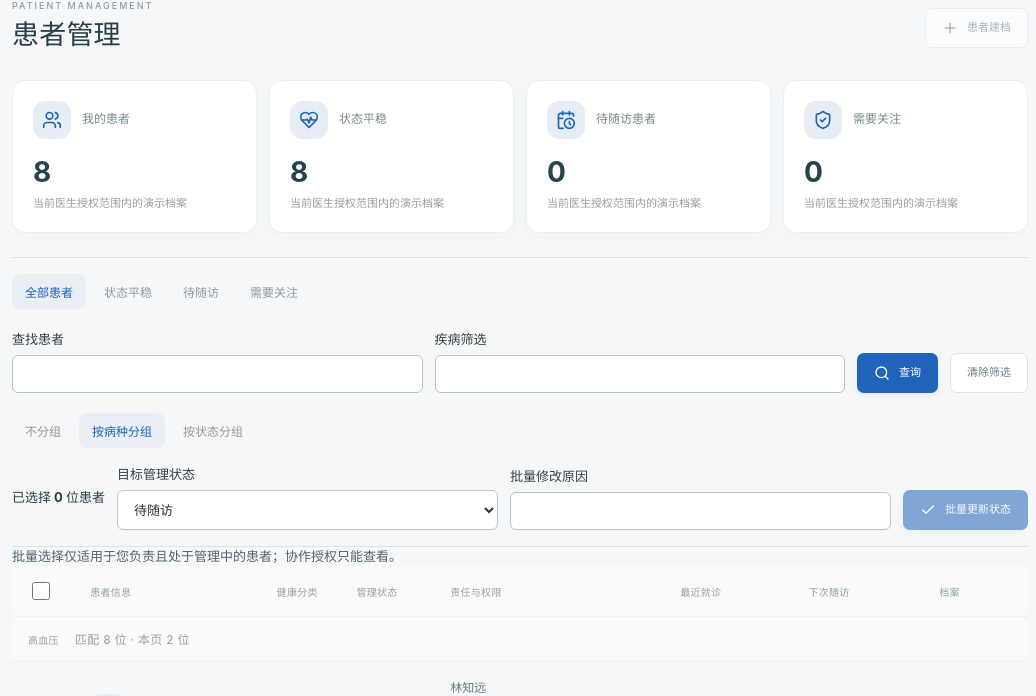
Test: Patients workflows › groups server results and submits only editable selected patients with their versions
expect the text "匹配 8 位 · 本页 2 位" is shown: met, box [75,632,190,647]
Click the checkbox named "全选当前页可编辑患者" at (41, 591), box [32,582,50,600]
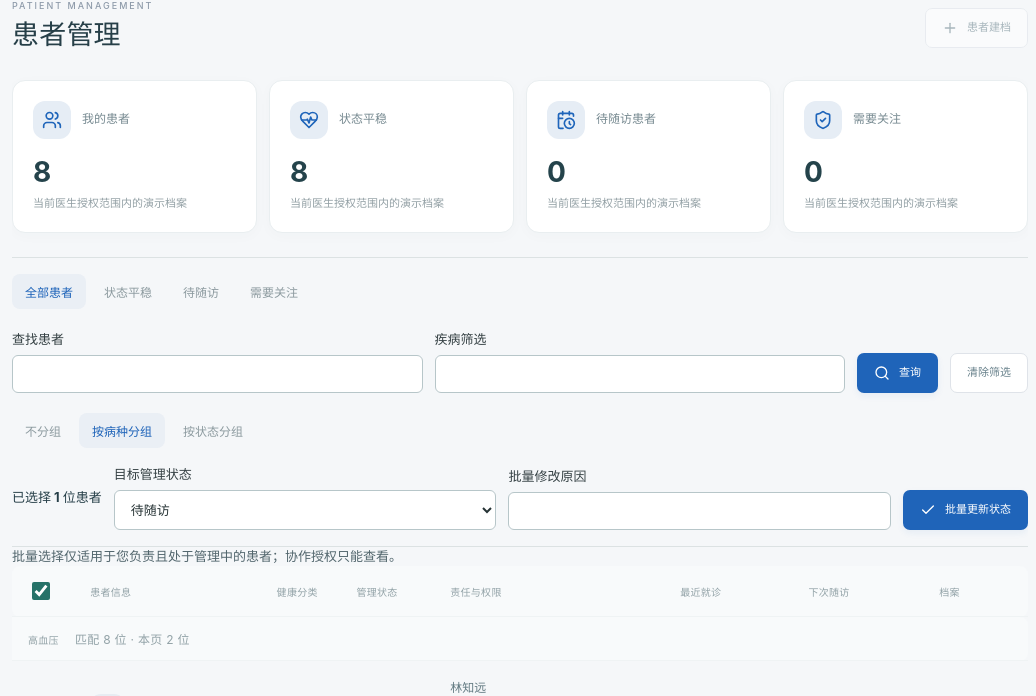
expect the text "已选择 1 位患者" is shown: met, box [12,487,102,506]
Click the button "批量更新状态" at (966, 510), box [903,490,1028,530]
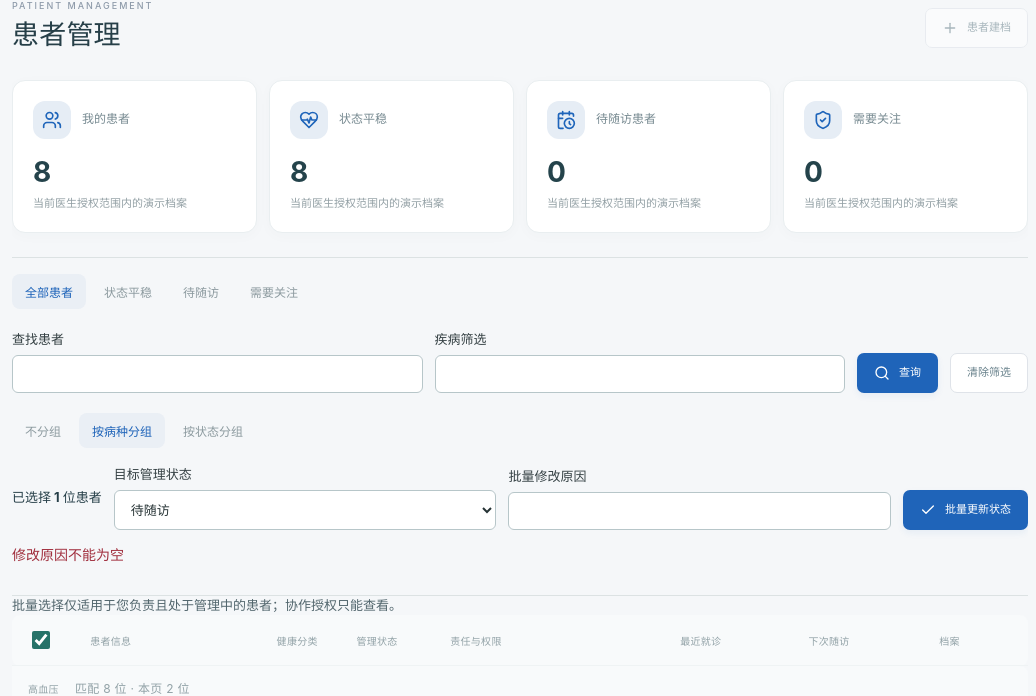
expect the message reads "修改原因不能为空": met, box [12,546,124,562]
Type "Review" into the field labelled "批量修改原因" at (700, 510), box [508,492,891,530]
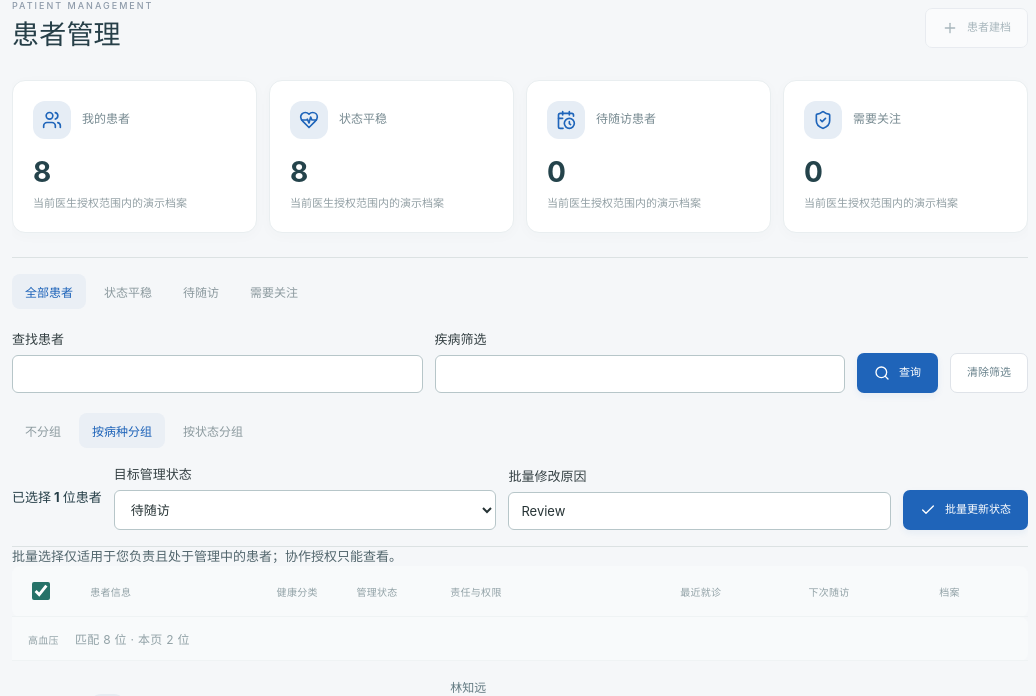
Select "需要关注" in the dropdown labelled "目标管理状态" at (305, 510), box [114,490,496,530]
Click the button "批量更新状态" at (966, 510), box [903,490,1028,530]
(page scrolled)
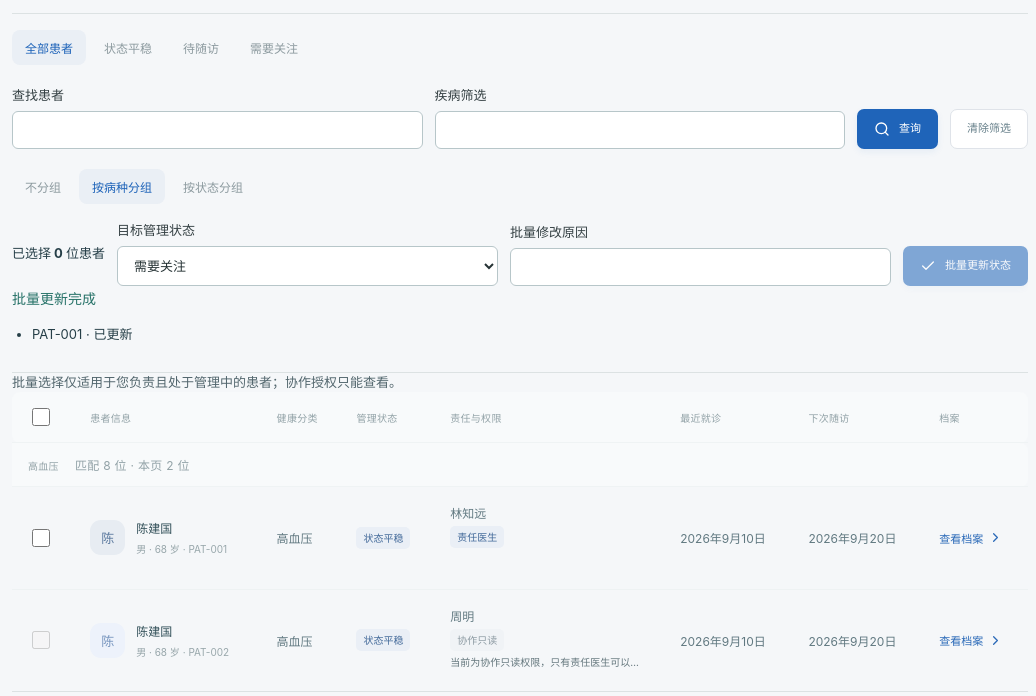
expect the text "批量更新完成" is shown: met, box [12,290,96,306]
expect the text "已选择 0 位患者" is shown: met, box [12,243,105,262]
Click the checkbox named "选择患者 PAT-001" at (41, 538), box [32,529,50,547]
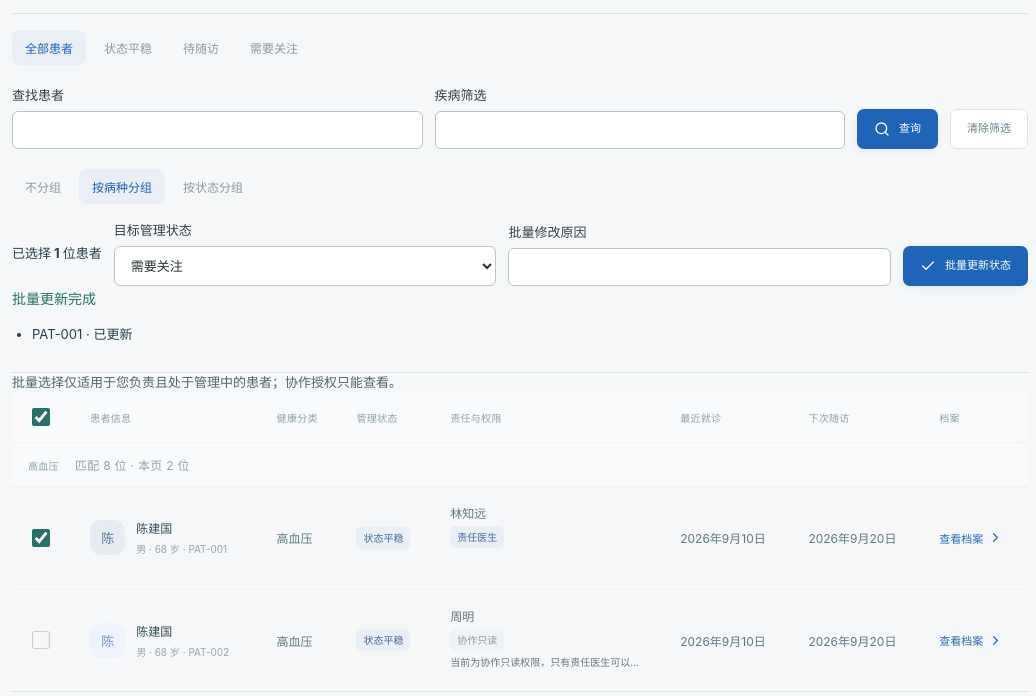
Click the button "按状态分组" at (213, 186), box [170,168,256,204]
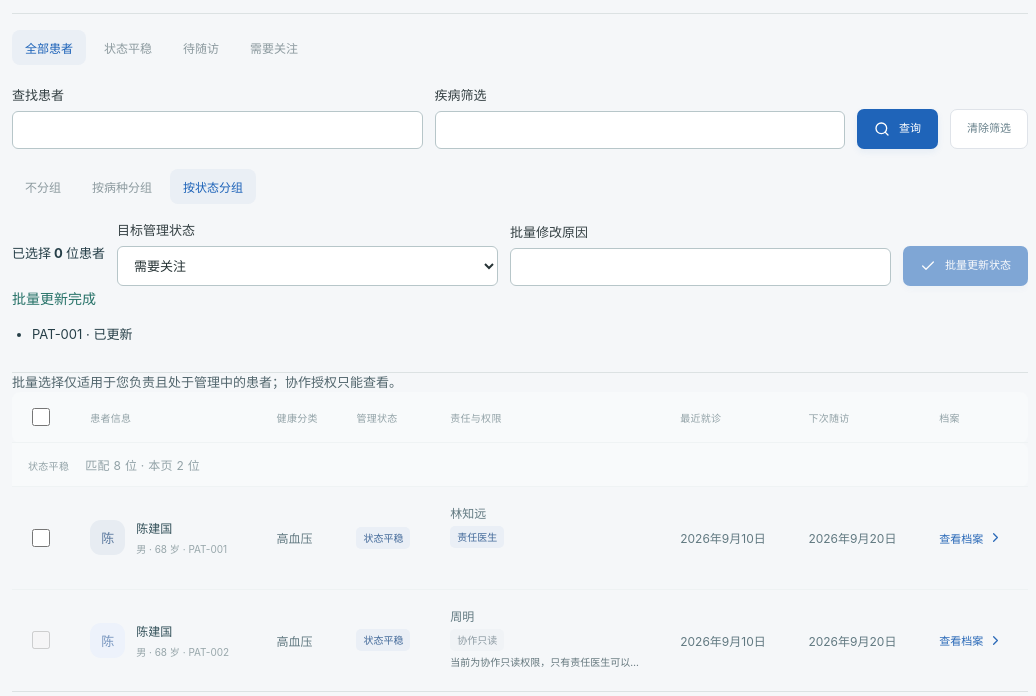
expect the text "已选择 0 位患者" is shown: met, box [12,243,105,262]
